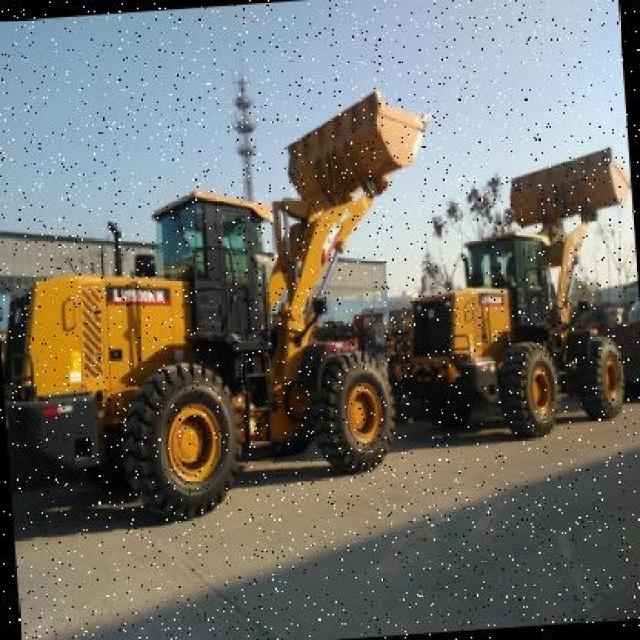buldozerpayloadergrader: (0, 79, 454, 518), (383, 132, 640, 458)
